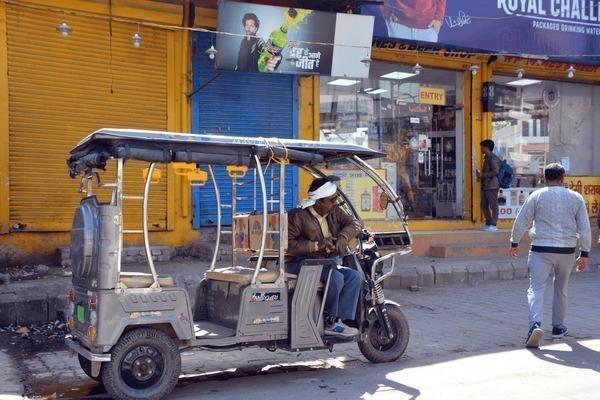keke: (78, 123, 417, 398)
